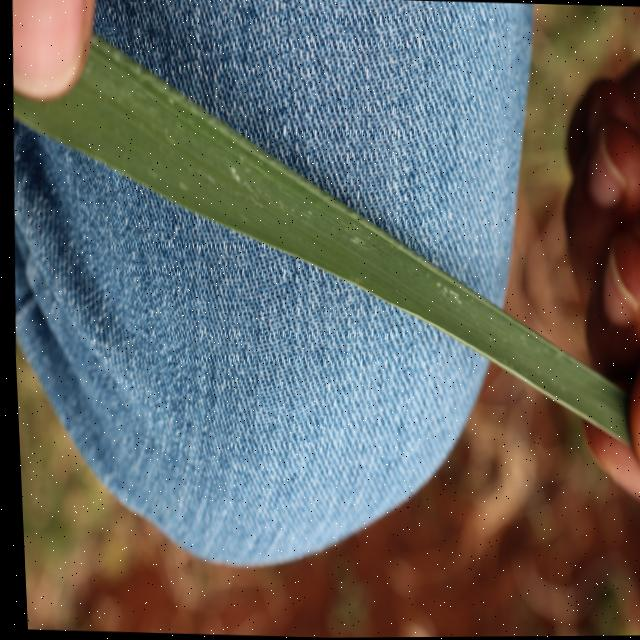healthy_wheat: (20, 16, 639, 468)
